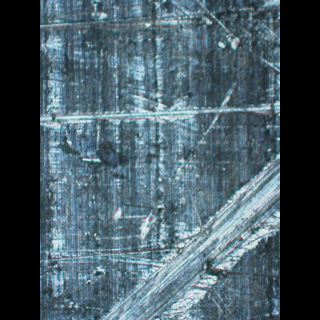d: (98, 152, 280, 320), (40, 97, 277, 148)
